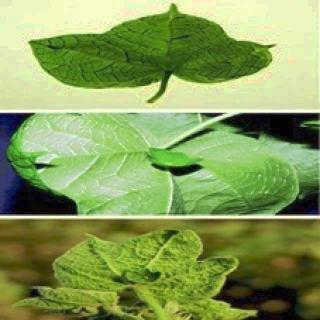curl: (17, 123, 305, 209), (38, 2, 280, 90), (45, 232, 239, 310)
